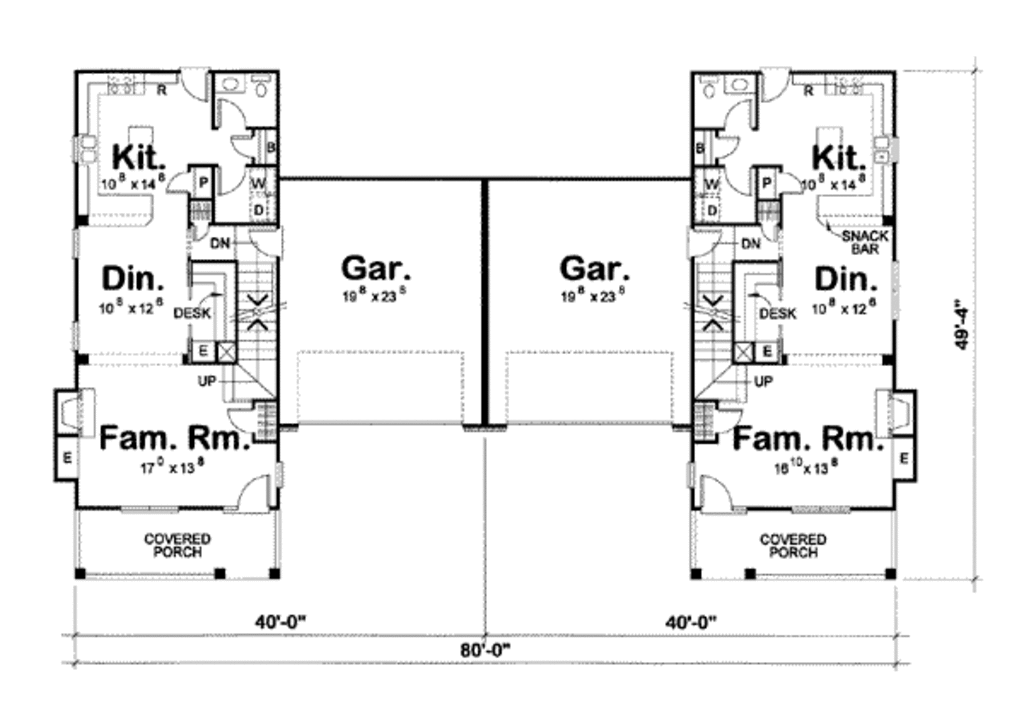door: (242, 222, 292, 263), (225, 468, 269, 513), (700, 467, 735, 517), (772, 166, 812, 207), (682, 225, 727, 261), (220, 401, 260, 439), (762, 58, 793, 100), (710, 402, 747, 437), (715, 95, 752, 129), (212, 160, 245, 198), (211, 94, 243, 130), (726, 159, 750, 200), (162, 167, 197, 194), (225, 123, 252, 157), (186, 214, 216, 242), (755, 215, 782, 245), (717, 132, 742, 158)
large_sink: (697, 78, 719, 104), (249, 73, 270, 97)
small_sink: (211, 70, 243, 92), (724, 76, 751, 93)
stairs: (692, 219, 762, 401), (226, 222, 292, 397)
twin_sink: (865, 122, 902, 171), (75, 133, 95, 166)
window: (789, 497, 852, 519), (117, 502, 184, 517)
